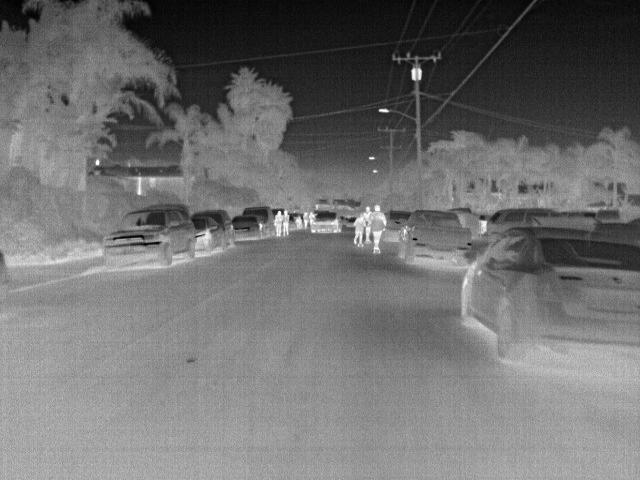car: (456, 224, 636, 366), (100, 202, 198, 271), (397, 209, 474, 266), (488, 204, 551, 245), (191, 207, 235, 248), (191, 214, 224, 254), (380, 212, 414, 245), (447, 206, 481, 239), (240, 204, 276, 232), (227, 218, 262, 246), (309, 211, 341, 233)
person: (368, 203, 390, 255), (351, 212, 368, 245), (281, 206, 293, 234), (273, 209, 285, 236), (300, 210, 313, 228)
